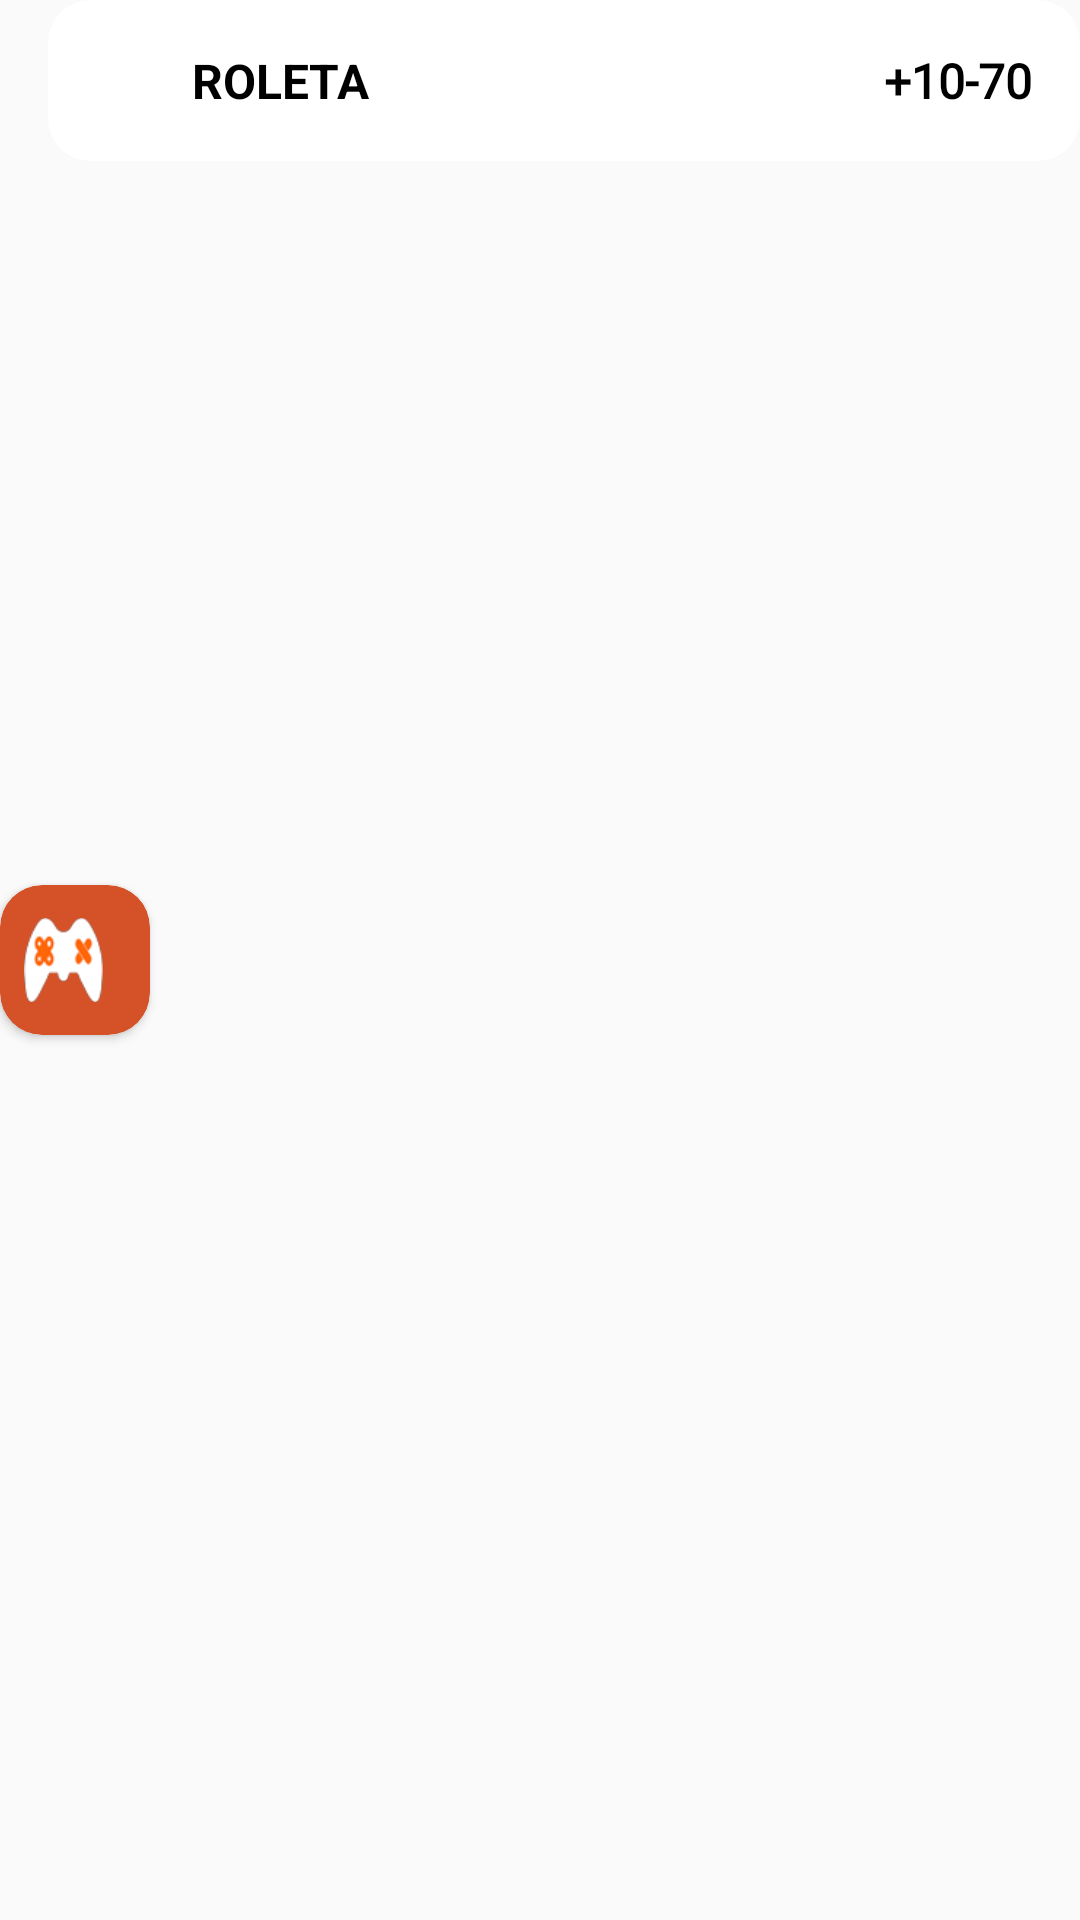

Icons on this 1080x1920 Android screen, each with the point to tap as (x,y):
gameicon: (63,960)
